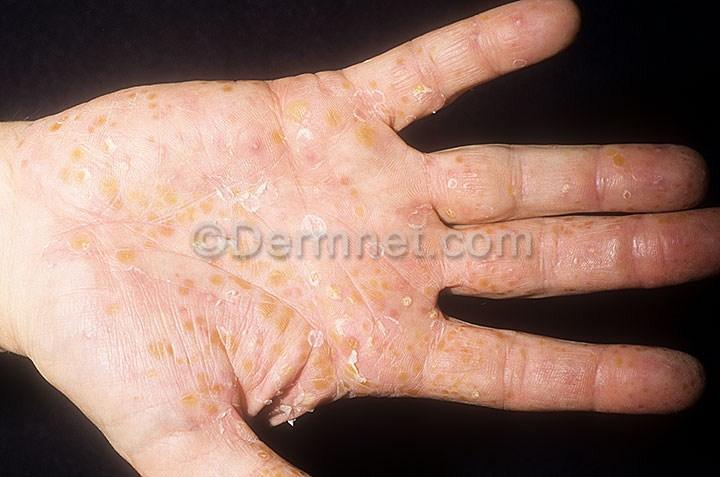Eczema: (320, 260, 389, 319), (207, 230, 282, 284), (168, 358, 230, 423), (422, 327, 488, 388), (131, 186, 199, 243), (66, 155, 146, 203), (230, 327, 299, 379), (365, 268, 428, 322), (302, 338, 358, 398), (45, 211, 103, 268), (434, 247, 500, 296), (158, 271, 217, 325), (16, 118, 75, 170), (381, 185, 435, 241), (322, 166, 376, 221), (133, 315, 191, 365), (212, 168, 258, 231), (368, 330, 420, 385), (81, 287, 136, 339), (258, 111, 311, 162), (143, 129, 197, 179), (74, 110, 135, 153), (310, 84, 358, 138), (286, 135, 333, 188), (542, 169, 599, 212), (348, 111, 395, 159), (539, 337, 588, 381), (135, 85, 179, 133), (227, 439, 280, 477), (359, 67, 404, 111), (433, 151, 480, 193), (401, 50, 450, 89), (488, 331, 530, 376), (274, 270, 315, 316), (602, 147, 647, 188), (107, 237, 150, 278), (665, 166, 708, 203), (207, 78, 247, 116), (270, 69, 310, 107), (612, 346, 649, 386), (516, 6, 551, 48), (470, 219, 524, 246), (610, 212, 652, 245), (676, 212, 720, 243), (616, 386, 661, 411), (669, 371, 702, 405), (551, 221, 591, 249), (494, 386, 538, 411), (465, 24, 498, 53)
